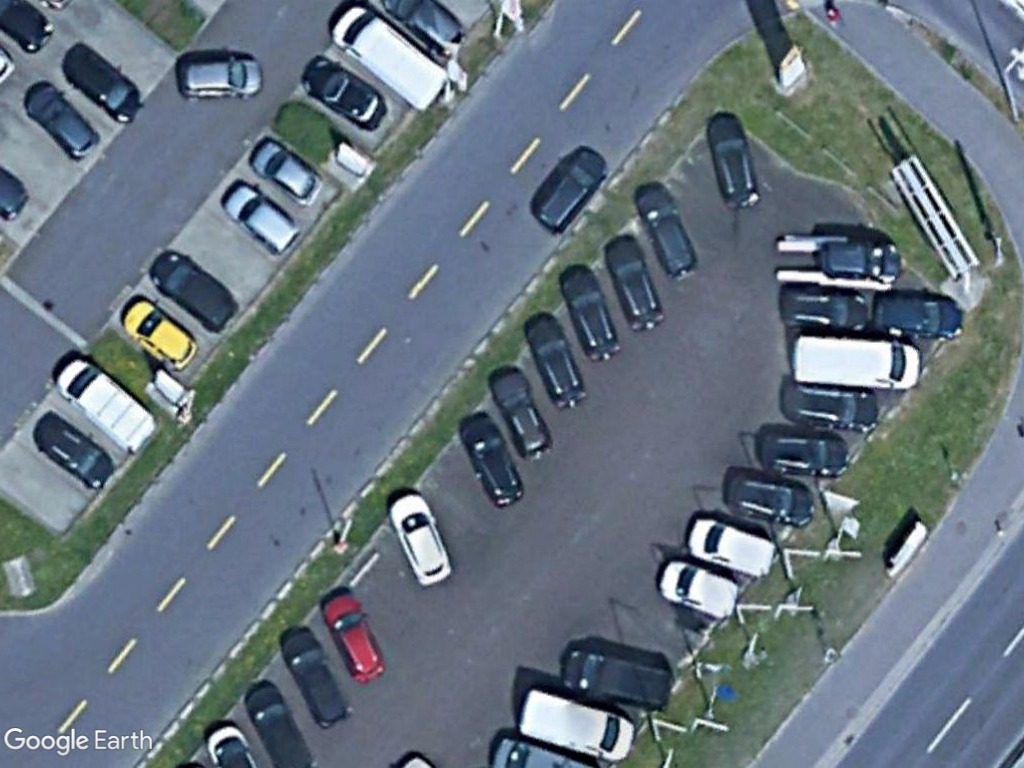car: (278, 626, 352, 728), (148, 251, 241, 332), (299, 52, 389, 135), (456, 409, 527, 512), (520, 312, 592, 412), (532, 145, 611, 236), (385, 490, 456, 591), (62, 48, 146, 128), (774, 375, 879, 438), (239, 680, 314, 768), (558, 264, 624, 363), (222, 180, 304, 259), (22, 83, 102, 162), (318, 591, 385, 684), (637, 184, 700, 282), (488, 369, 555, 461), (120, 297, 201, 371), (35, 419, 118, 491), (602, 232, 661, 333), (866, 287, 968, 345), (703, 112, 763, 209), (752, 422, 851, 480), (719, 471, 816, 530), (251, 138, 325, 208), (776, 281, 872, 334), (175, 54, 264, 99)
van: (328, 0, 451, 116), (512, 683, 639, 767), (55, 357, 157, 458), (783, 332, 925, 390), (556, 648, 677, 713), (686, 512, 779, 582), (651, 555, 743, 620)
